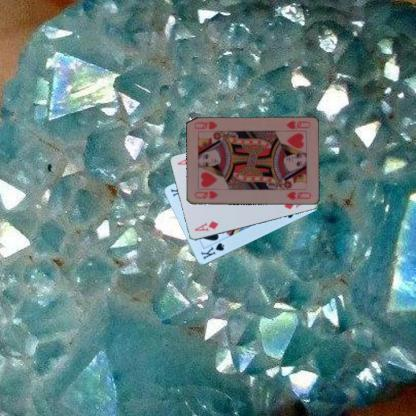Ad: (192, 218, 220, 233)
Ks: (198, 240, 226, 260)
Qh: (282, 118, 312, 133), (191, 188, 219, 200)
